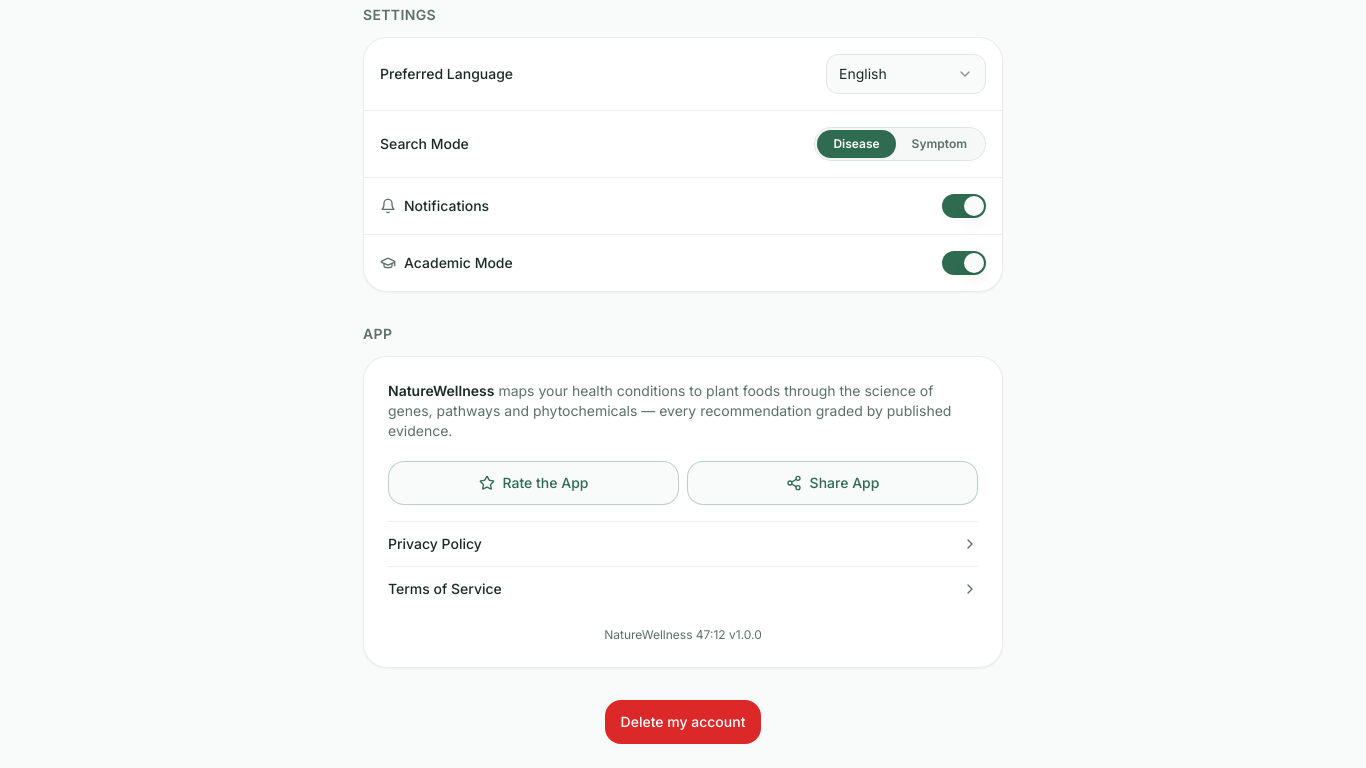
Profile account deletion › keeps the user signed in and shows an error when deletion fails
Later steps or results of the test are not shown.
(page scrolled)
Step 1. Click the button "Delete my account" → {"x": 683, "y": 722}, box [605,700,761,744]
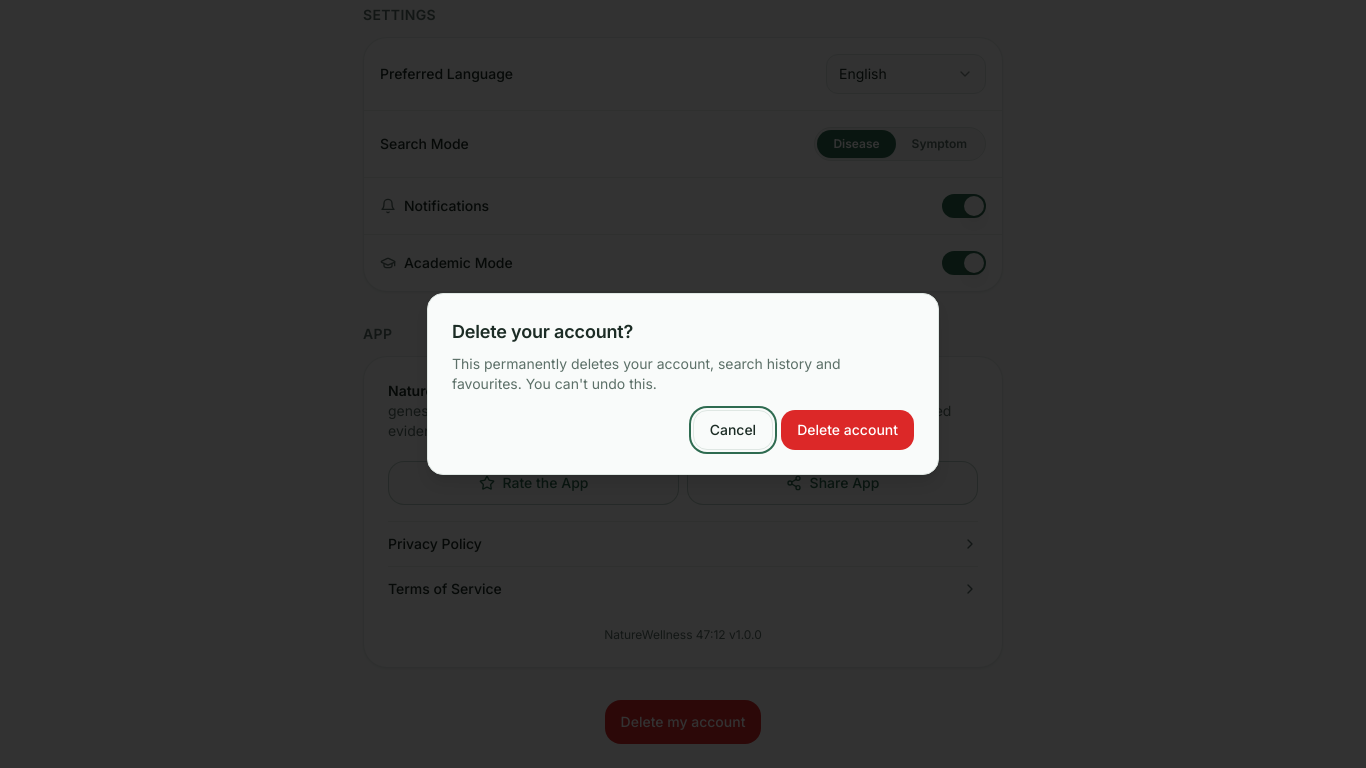
expect the heading "Delete your account?" is shown: met, box [452,321,633,342]
